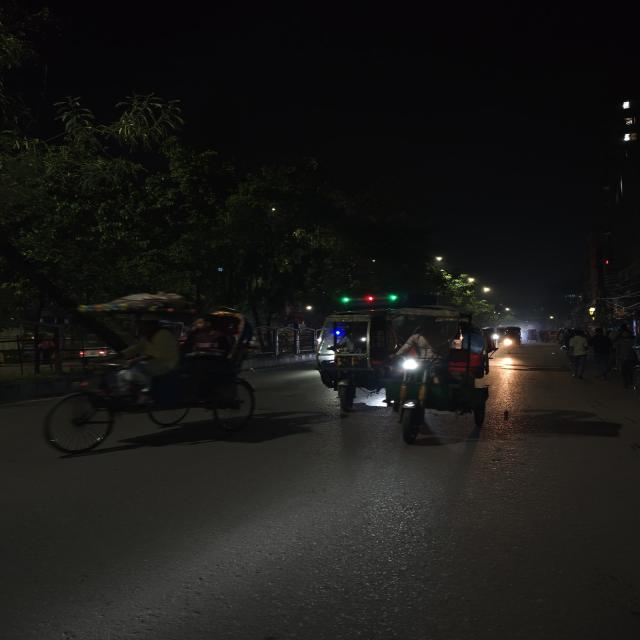pedestrian: (611, 325, 640, 392), (562, 328, 592, 380), (589, 326, 616, 380)
rickshaw: (34, 292, 266, 466), (305, 300, 501, 436), (495, 324, 526, 350)
